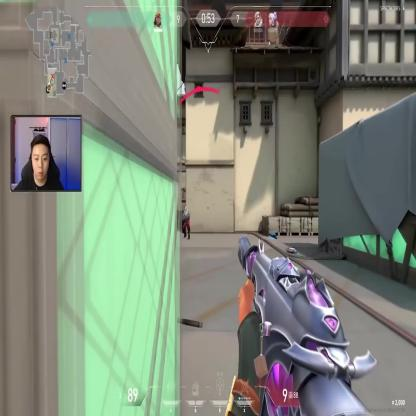enemy: (181, 205, 190, 240)
enemy_head: (184, 205, 187, 212)
